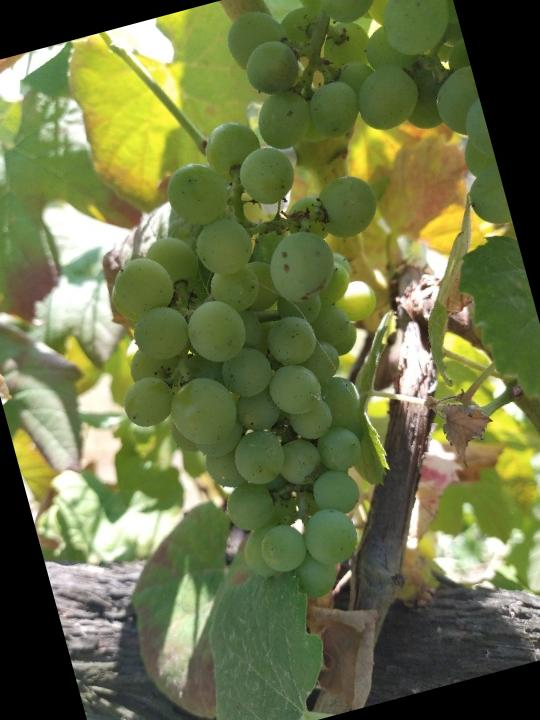grape: (49, 87, 477, 640)
